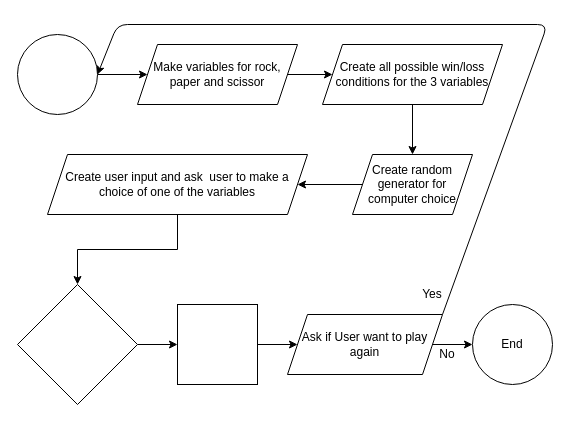
The diagram is 573 pixels wide and 422 high, and some of its shapes have lost their labels. The shapes that lost their labels are listed below. From the top down, each one's centre as x and y in pixels, then its label:
At [57,74]: "Start".
At [77,344]: "Determine Winner".
At [217,344]: "Notify User of results".
